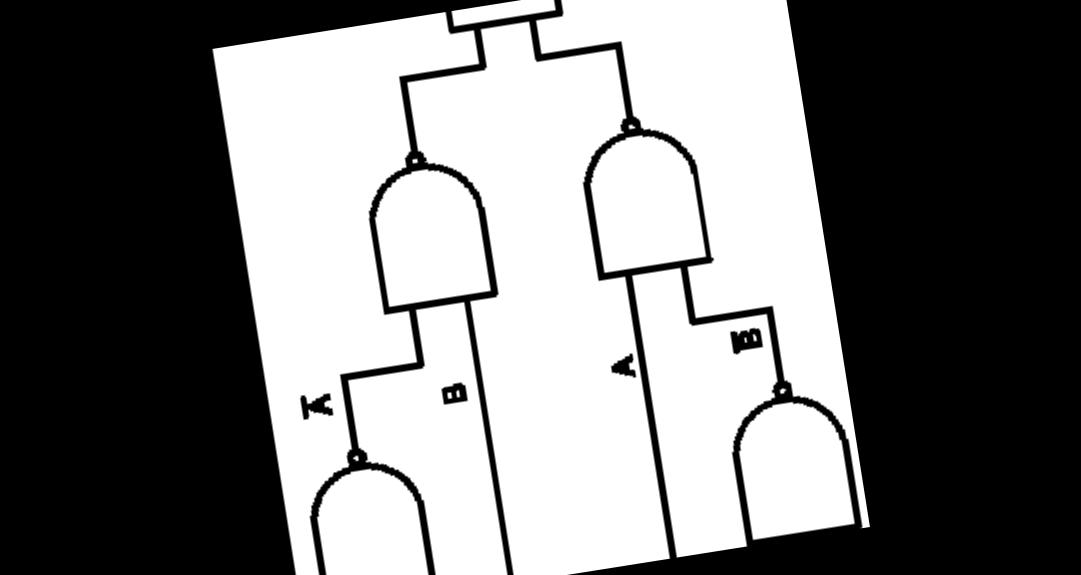nand: (351, 130, 507, 332), (566, 99, 718, 298), (712, 364, 868, 548), (289, 428, 446, 575), (408, 0, 576, 57)
